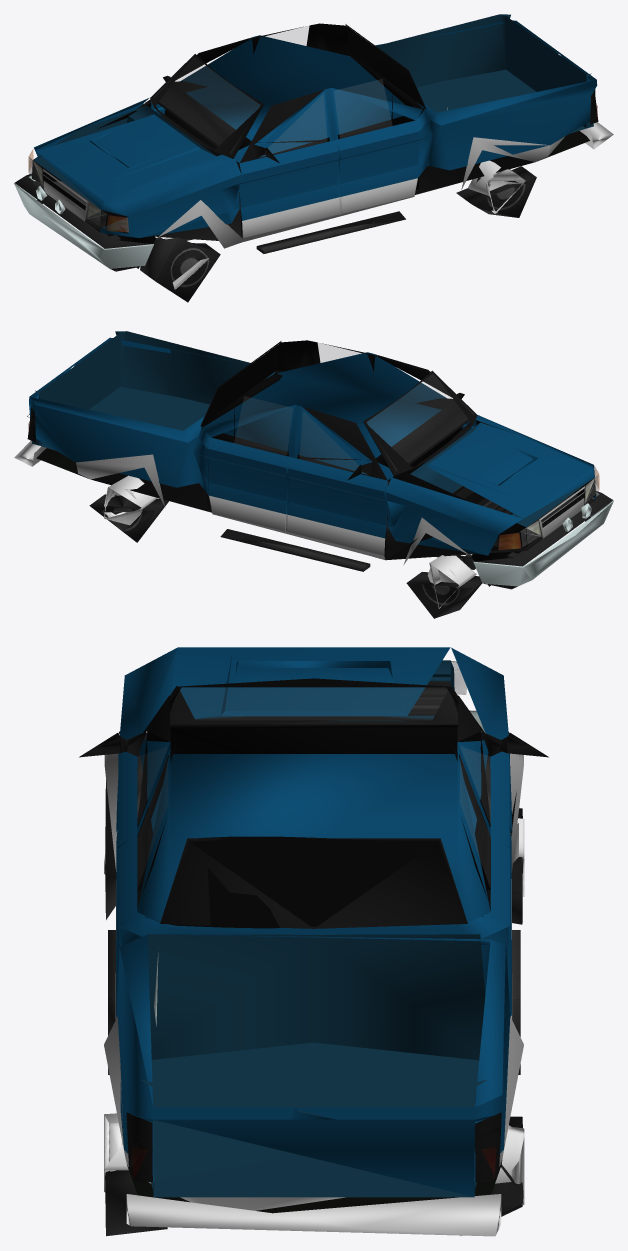
File: v_pick_lo.glb
The picture shows the model from 3 angles, top to bottom: view 1: azimuth 30°, elevation 25°; view 2: azimuth 150°, elevation 25°; view 3: azimuth 270°, elevation 25°; orthographic projection. The views are drawn at different scales.
Parts seen in each view (by area): view 1: body_body_0, hood_doorshut_0, glass_glass_0, interior_void_0, body_body_secondary_0, BOTTOM_Material #2255_0, wheel_01_tiers_0, body_plastic_0, bumper_front_chrome_0, BUMPER_FRONT_BODY_body_secondary_0, wheel_01_rims_0, backlights_headlights_glass_0 (+1 smaller); view 2: body_body_0, hood_doorshut_0, interior_void_0, glass_glass_0, body_body_secondary_0, BOTTOM_Material #2255_0, body_plastic_0, wheel_01_tiers_0, bumper_front_chrome_0, wheel_01_rims_0, BUMPER_FRONT_BODY_body_secondary_0, backlights_headlights_glass_0 (+2 smaller); view 3: body_body_0, hood_doorshut_0, interior_void_0, body_plastic_0, glass_glass_0, bumper_rear_02_krm_lgtbdy_chrome_0, body_body_secondary_0, wheel_01_tiers_0, BOTTOM_Material #2255_0, wheel_01_rims_0, engine_bay_bottom_0, backlights_headlights_glass_0.
Boxes of the visible parts, <box> form: body_body_0: <box>34,20,597,237</box>; hood_doorshut_0: <box>33,14,593,208</box>; glass_glass_0: <box>153,26,391,157</box>; interior_void_0: <box>32,23,424,268</box>; body_body_secondary_0: <box>43,136,564,248</box>; BOTTOM_Material #2255_0: <box>33,99,589,253</box>; wheel_01_tiers_0: <box>140,166,536,302</box>; body_plastic_0: <box>150,24,598,163</box>; bumper_front_chrome_0: <box>14,175,153,268</box>; BUMPER_FRONT_BODY_body_secondary_0: <box>15,173,152,271</box>; wheel_01_rims_0: <box>165,160,525,289</box>; backlights_headlights_glass_0: <box>28,104,597,231</box>; body_body_0: <box>29,337,595,555</box>; hood_doorshut_0: <box>32,331,593,527</box>; interior_void_0: <box>201,340,595,586</box>; glass_glass_0: <box>234,343,473,474</box>; body_body_secondary_0: <box>76,454,584,565</box>; BOTTOM_Material #2255_0: <box>36,420,594,571</box>; body_plastic_0: <box>27,341,477,480</box>; wheel_01_tiers_0: <box>89,494,482,618</box>; bumper_front_chrome_0: <box>473,493,613,586</box>; wheel_01_rims_0: <box>104,475,476,608</box>; BUMPER_FRONT_BODY_body_secondary_0: <box>475,491,612,589</box>; backlights_headlights_glass_0: <box>28,421,599,549</box>; body_body_0: <box>116,647,512,1197</box>; hood_doorshut_0: <box>141,660,486,1197</box>; interior_void_0: <box>137,688,516,928</box>; body_plastic_0: <box>79,678,548,1182</box>; glass_glass_0: <box>138,688,490,887</box>; bumper_rear_02_krm_lgtbdy_chrome_0: <box>126,1194,501,1236</box>; body_body_secondary_0: <box>104,753,523,1210</box>; wheel_01_tiers_0: <box>105,780,523,1236</box>; BOTTOM_Material #2255_0: <box>108,732,520,1213</box>; wheel_01_rims_0: <box>104,818,524,1204</box>; engine_bay_bottom_0: <box>264,681,450,724</box>; backlights_headlights_glass_0: <box>132,662,495,1178</box>.
Bounding box in the file's own units: 204 × 61.46 × 79.74.
Materials: 17 (7 with a texture image).
